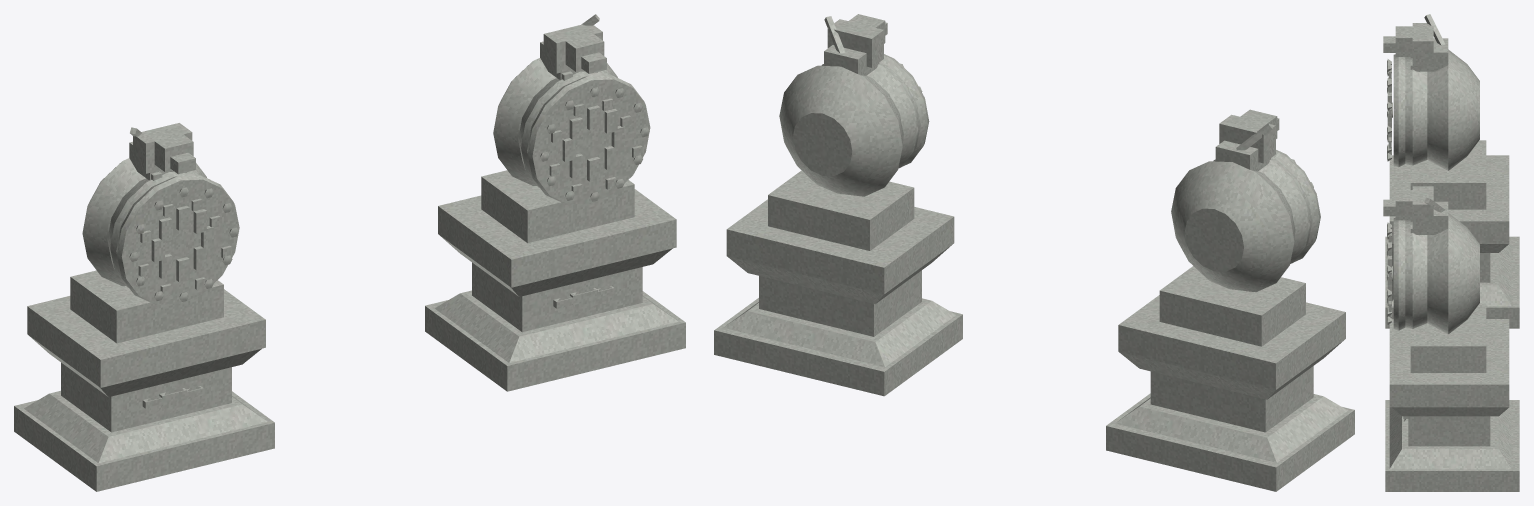
Rendered from baogushi.glb.
The picture shows the model from 3 angles, left to right: view 1: azimuth 30°, elevation 25°; view 2: azimuth 150°, elevation 25°; view 3: azimuth 270°, elevation 25°; orthographic projection. The views are drawn at different scales.
Parts seen in each view (by area): view 1: baogushi; view 2: baogushi; view 3: baogushi.
Boxes of the visible parts, x1,y1,x2,y2 form: baogushi: (14, 14, 685, 491); baogushi: (714, 14, 1354, 491); baogushi: (1383, 14, 1519, 491).
Bounding box in the file's own units: 1.32 × 0.7046 × 0.325.
Materials: 1 (1 with a texture image).
